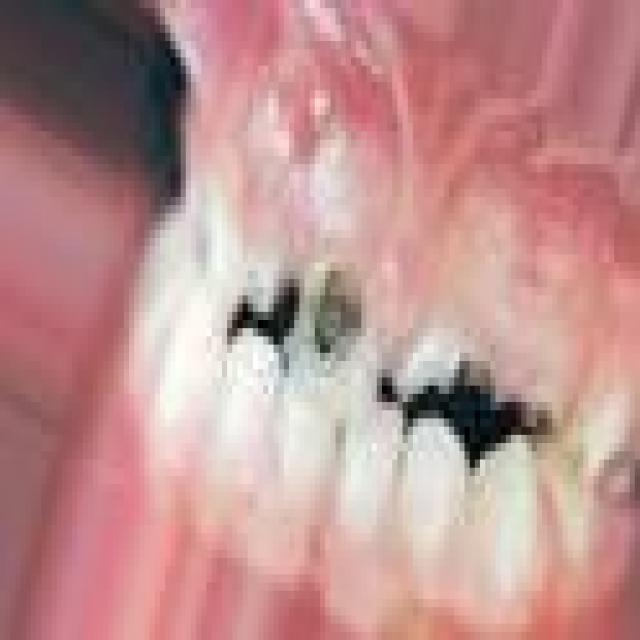caries: (470, 343, 564, 440), (394, 311, 460, 417), (303, 254, 360, 364), (246, 242, 292, 340)
